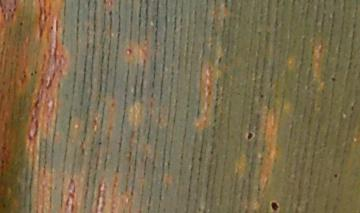tarspot: (270, 201, 280, 213), (246, 130, 254, 141), (216, 54, 222, 65), (125, 47, 133, 55), (255, 30, 263, 38), (209, 24, 216, 32), (208, 41, 215, 49), (107, 8, 113, 17), (1, 80, 7, 87), (2, 202, 7, 210), (332, 172, 338, 178), (258, 93, 264, 99), (330, 76, 336, 82), (18, 20, 23, 27), (350, 104, 354, 112), (97, 140, 102, 146), (49, 24, 54, 30), (33, 69, 38, 75), (22, 73, 26, 79), (29, 71, 33, 77)
